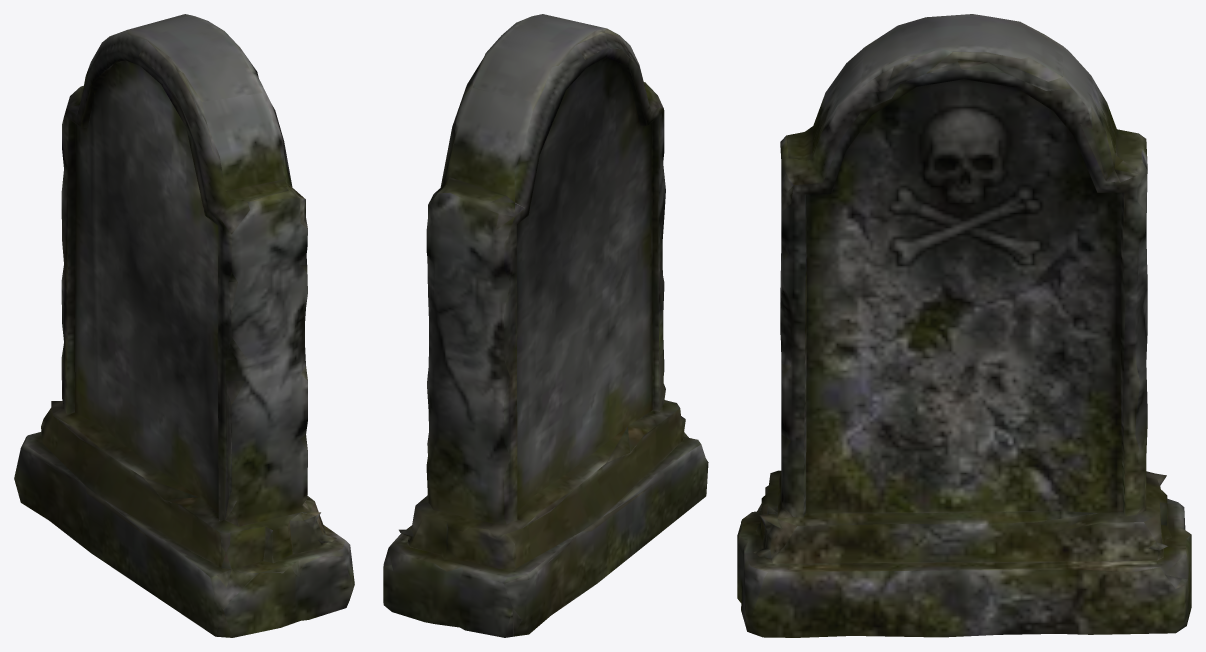
Rendered from tombstone_round.glb.
The picture shows the model from 3 angles, left to right: view 1: azimuth 30°, elevation 25°; view 2: azimuth 150°, elevation 25°; view 3: azimuth 270°, elevation 25°; orthographic projection. The views are drawn at different scales.
Visible parts, largest first — view 1: tripo_node_186b65da-2f2c-424f-b2a5-5278b2d7953c; view 2: tripo_node_186b65da-2f2c-424f-b2a5-5278b2d7953c; view 3: tripo_node_186b65da-2f2c-424f-b2a5-5278b2d7953c.
Part boxes in pixels (box(x1,y1,x2,y2)): tripo_node_186b65da-2f2c-424f-b2a5-5278b2d7953c: box(14, 14, 354, 637); tripo_node_186b65da-2f2c-424f-b2a5-5278b2d7953c: box(383, 14, 708, 637); tripo_node_186b65da-2f2c-424f-b2a5-5278b2d7953c: box(737, 14, 1191, 637).
Size of the model in its own units: 0.2988 by 0.998 by 0.7246.
Materials: 1 (1 with a texture image).
